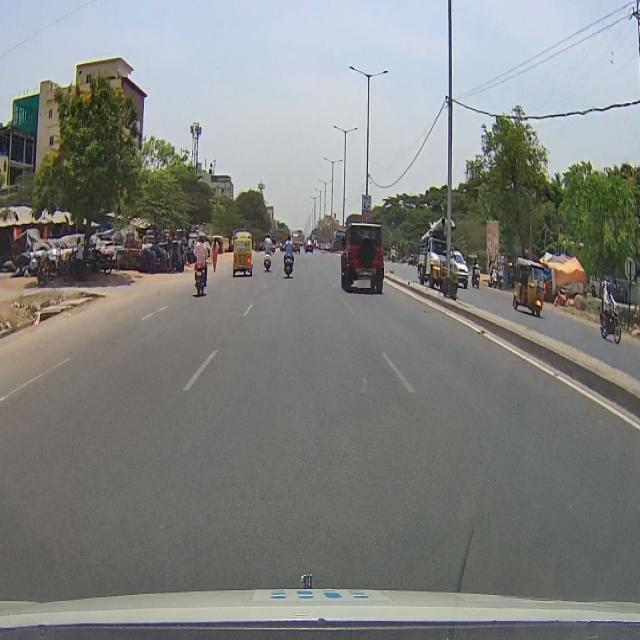auto ahead at: (229, 226, 257, 284)
car ahead at: (337, 218, 388, 302)
tree ahead at: (32, 77, 142, 293)
